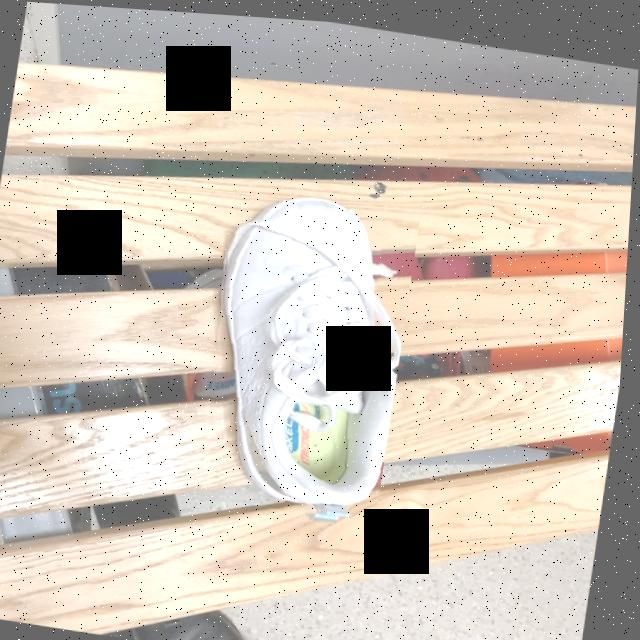shoe: (226, 197, 405, 513)
